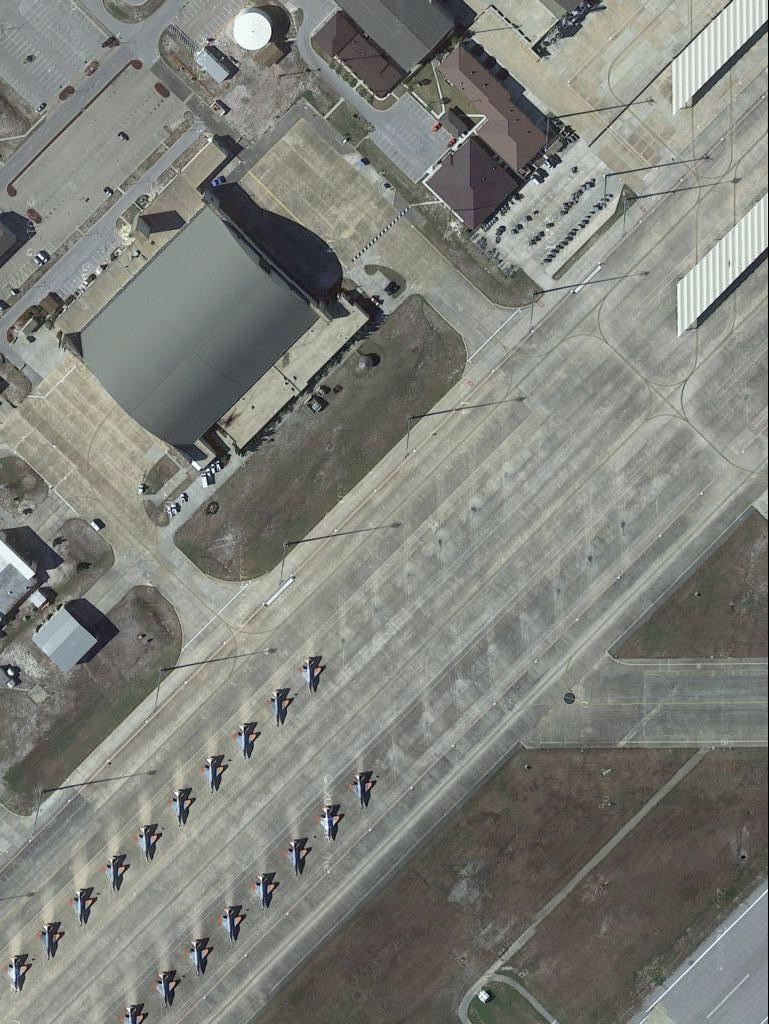plane: (277, 830, 316, 880), (292, 651, 331, 700), (343, 765, 380, 815), (227, 717, 265, 765), (194, 749, 231, 798), (146, 965, 183, 1014), (213, 901, 249, 951), (260, 683, 296, 732), (129, 819, 166, 866), (161, 784, 196, 832), (97, 850, 132, 898), (312, 799, 346, 848), (179, 935, 215, 981), (64, 882, 99, 927), (246, 868, 280, 914), (1, 951, 34, 998), (32, 919, 64, 966)
